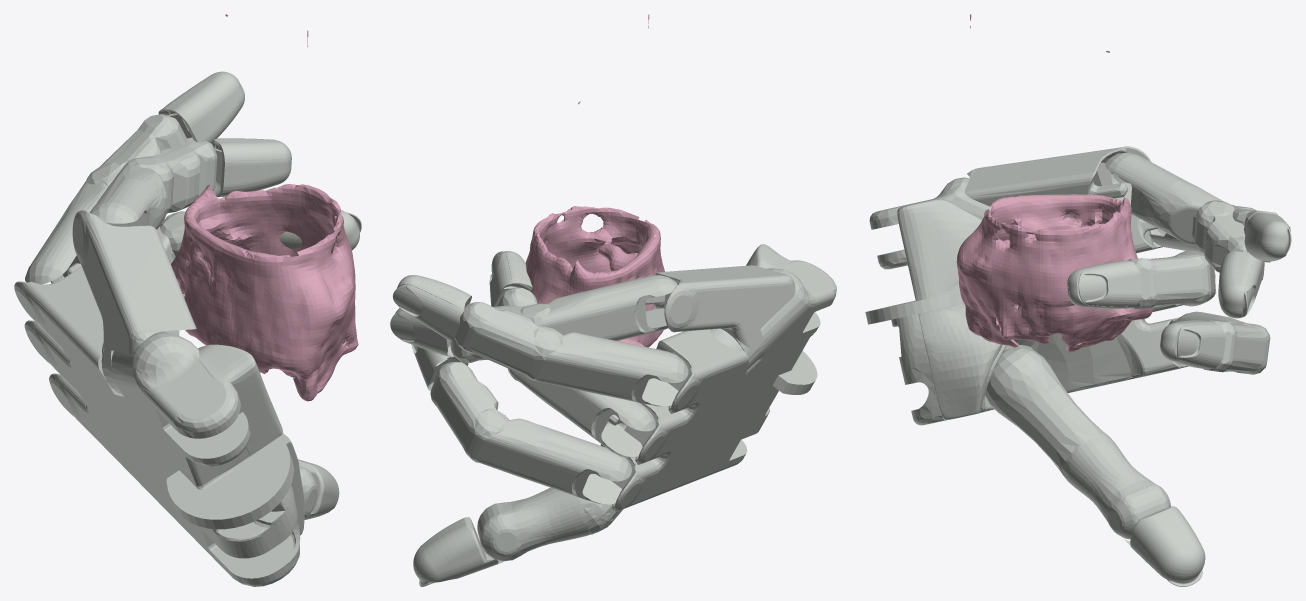
3 views of the same model, side by side, from view 1: azimuth 30°, elevation 25°; view 2: azimuth 150°, elevation 25°; view 3: azimuth 270°, elevation 25° (orthographic). The views are drawn at different scales.
Visible parts, largest first — view 1: hand, world; view 2: hand, world; view 3: hand, world.
Boxes of the visible parts, <box> form: hand: <box>14,71,361,586</box>; world: <box>171,14,358,401</box>; hand: <box>390,244,836,586</box>; world: <box>525,14,664,347</box>; hand: <box>865,146,1291,586</box>; world: <box>956,14,1152,352</box>.
Size of the model in its own units: 0.1191 by 0.2046 by 0.1537.
